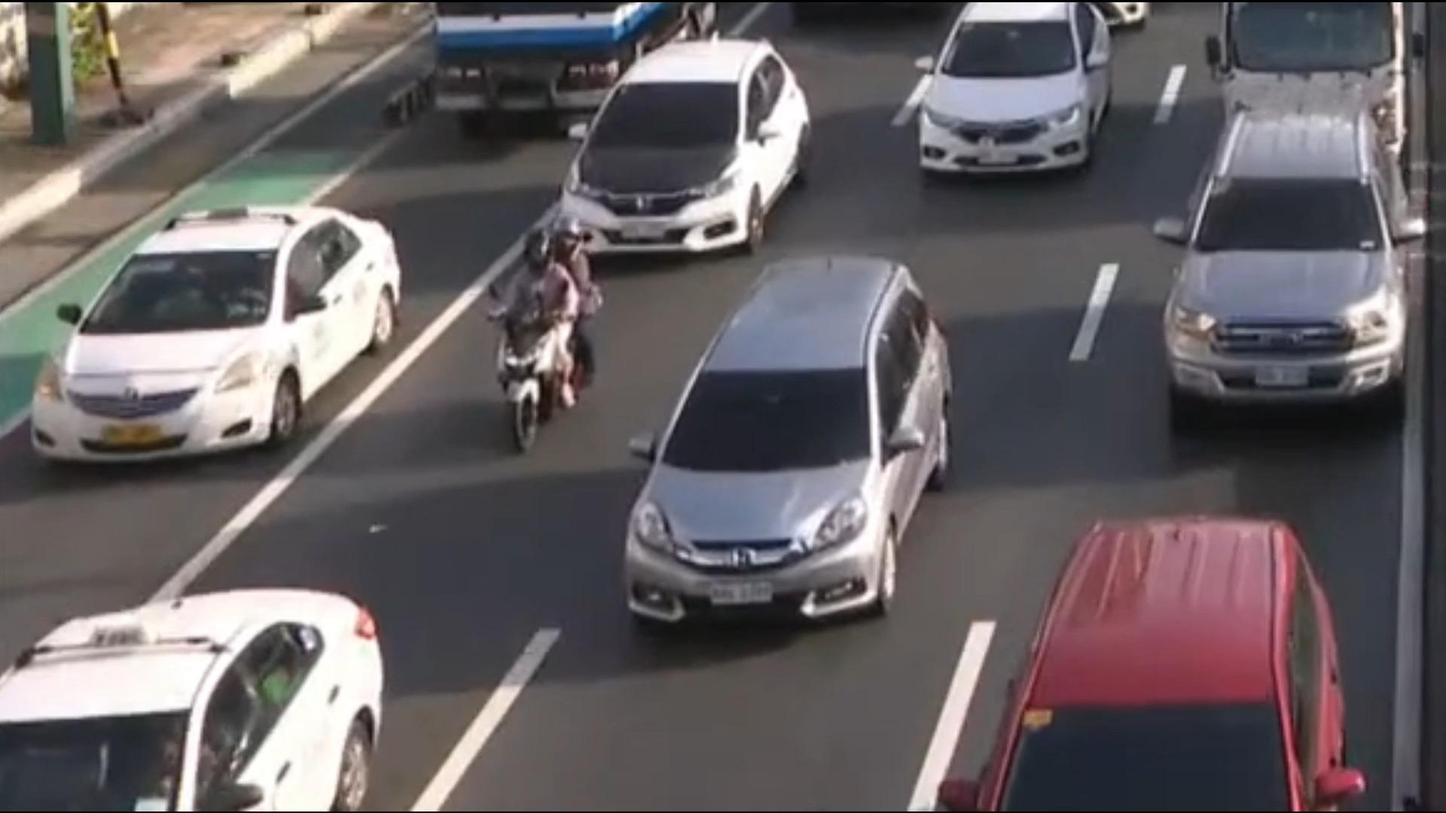Motorcycle: (482, 210, 611, 453)
SUV: (938, 515, 1365, 813), (623, 253, 952, 638), (1148, 105, 1427, 437)
Sedan: (26, 203, 402, 462), (0, 580, 385, 813), (551, 35, 810, 262), (911, 0, 1116, 183)
Truck: (431, 0, 716, 145), (1199, 0, 1431, 149)
